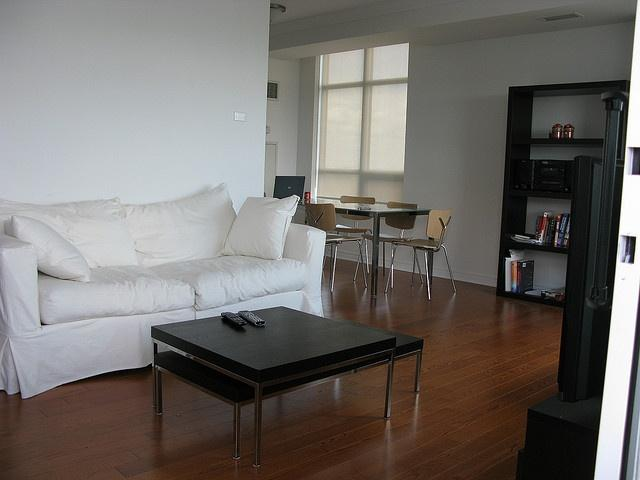Meja: (150, 304, 424, 466)
Rak: (494, 79, 630, 307)
